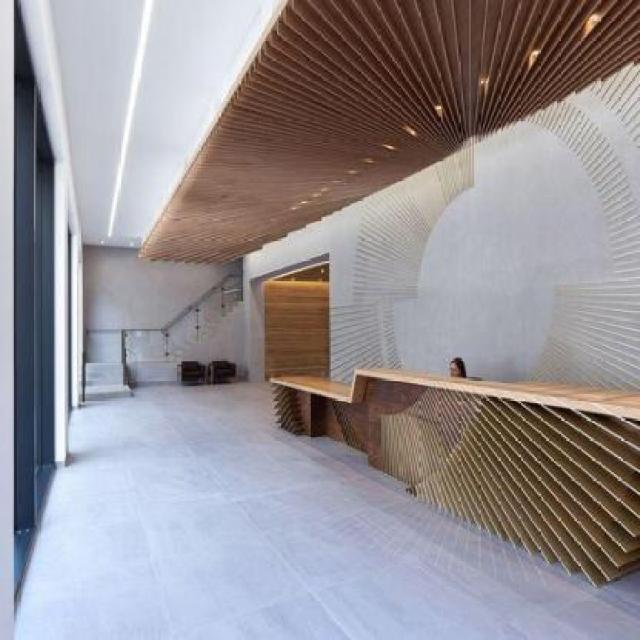frontdesk: (257, 354, 640, 592)
